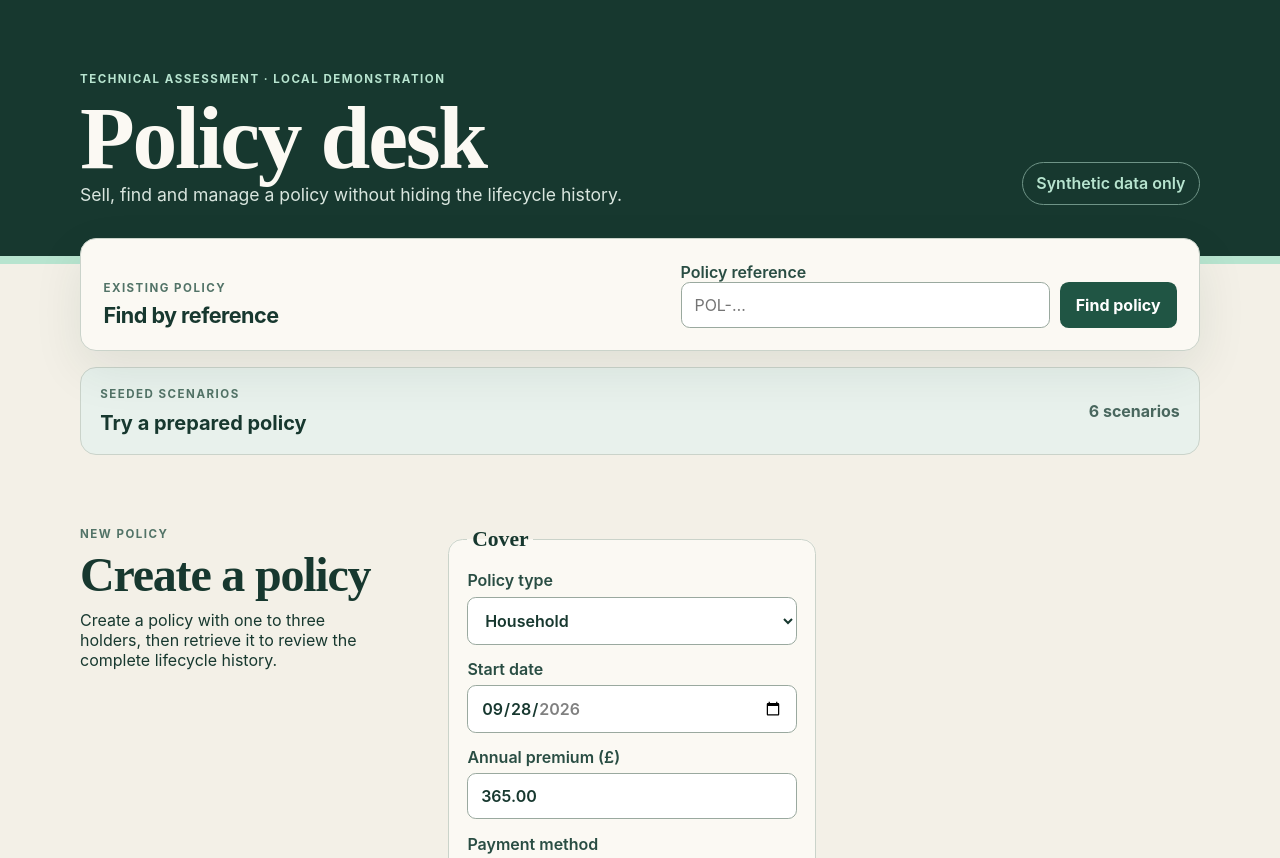
policy desk › requires GET recovery after renewal returns HTTP 500
Type "POL-DEMO123" into the field labelled "Policy reference" at x=865, y=305, box 681,282 -> 1050,328
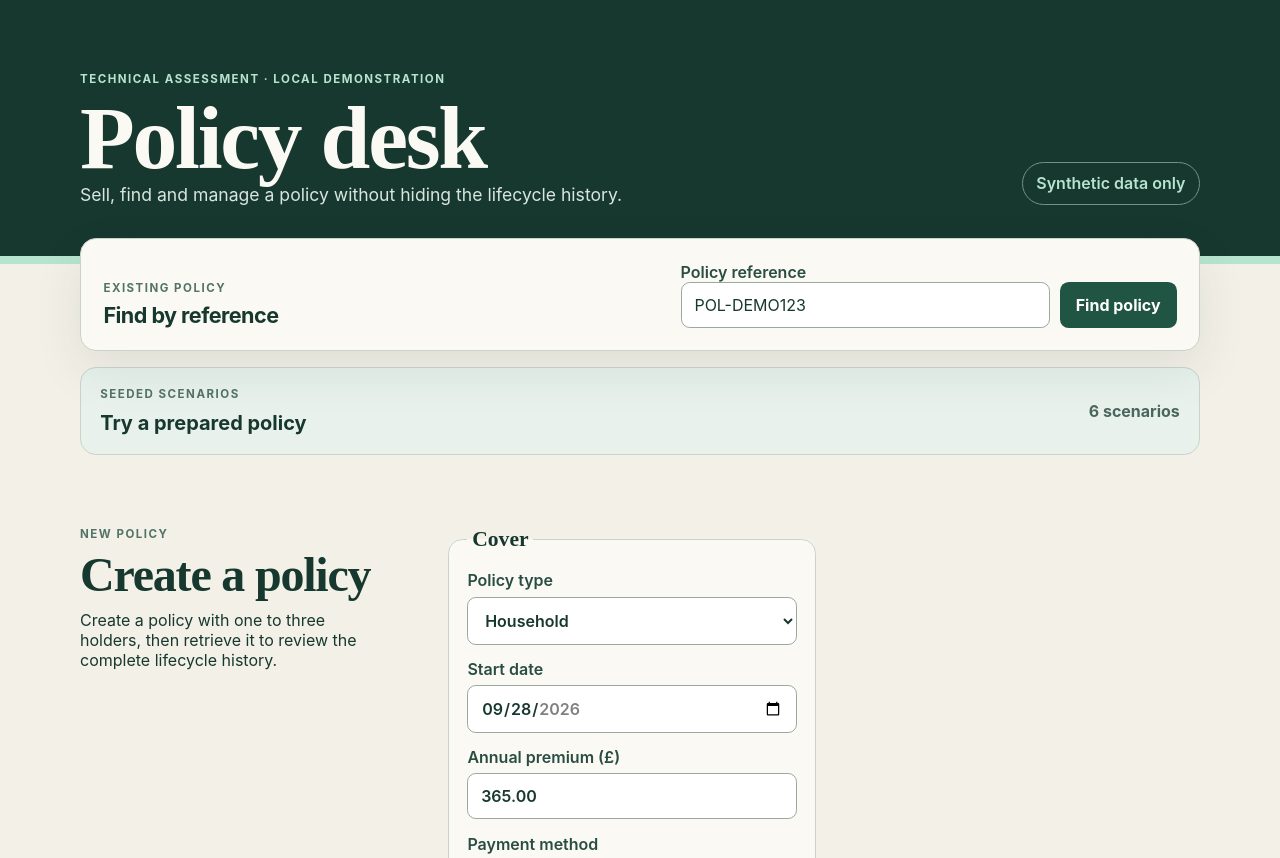
Submit the form labelled "Policy reference", box 681,262 -> 1177,328
(page scrolled)
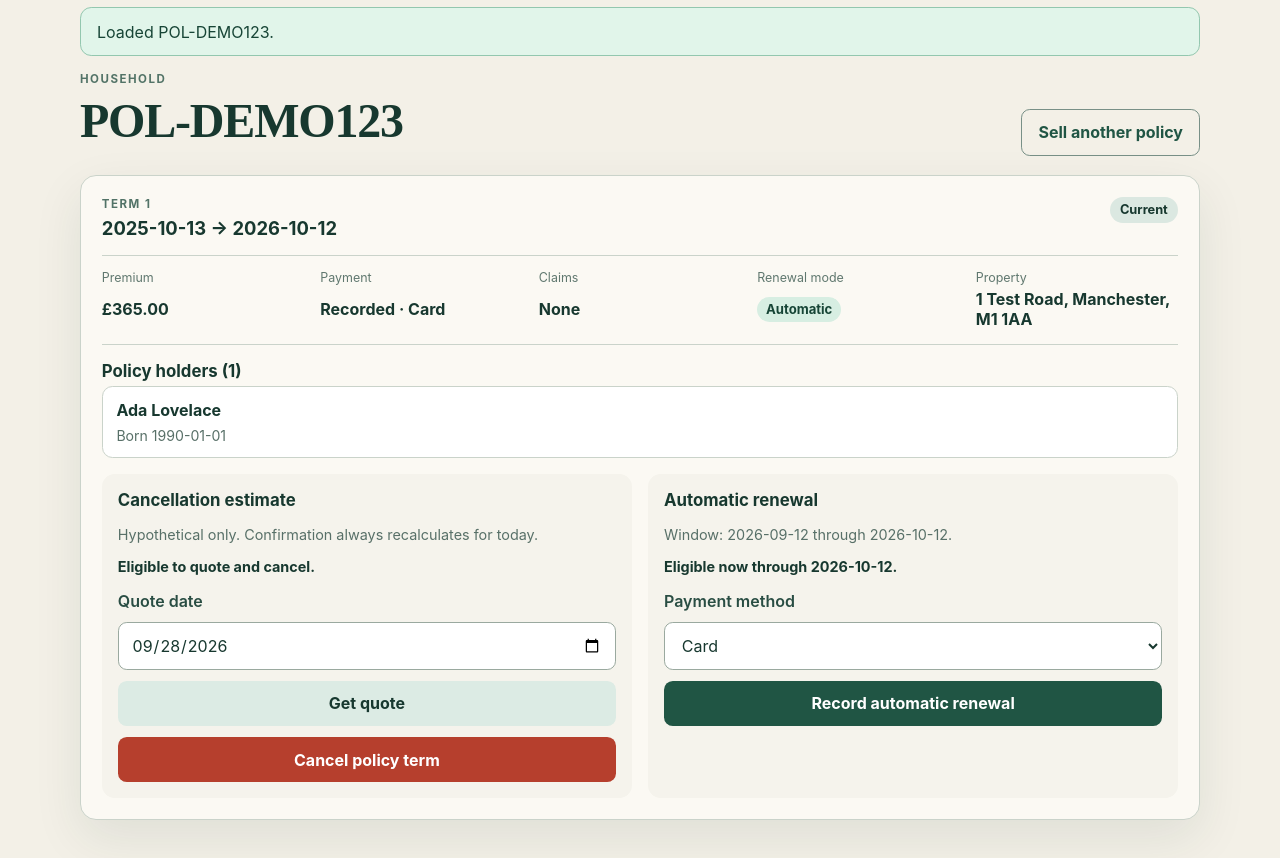
Expected: the heading "POL-DEMO123" is shown, 80,93 -> 403,148
Submit the form "Cancellation estimate", box 102,474 -> 632,798
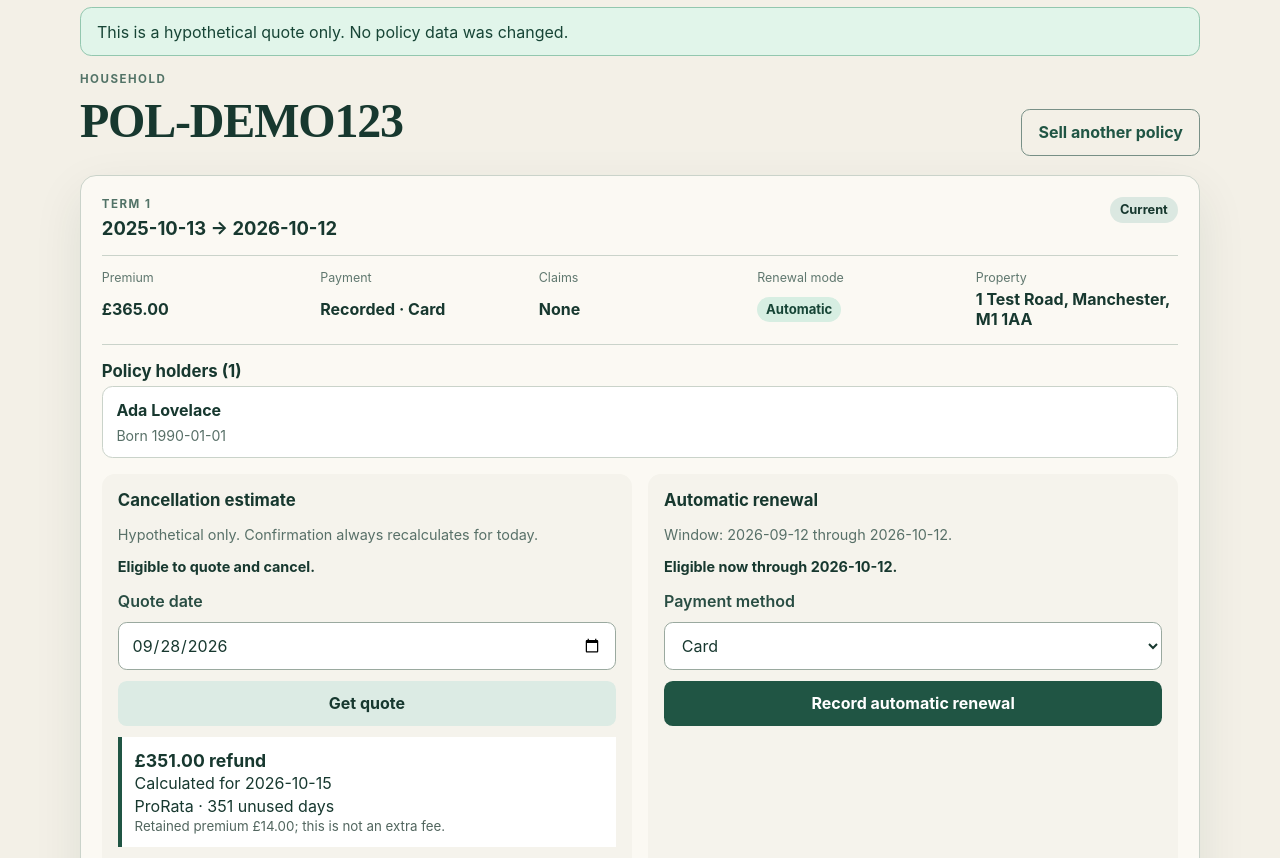
Click the button "Record automatic renewal" at x=913, y=703, box 664,681 -> 1162,726
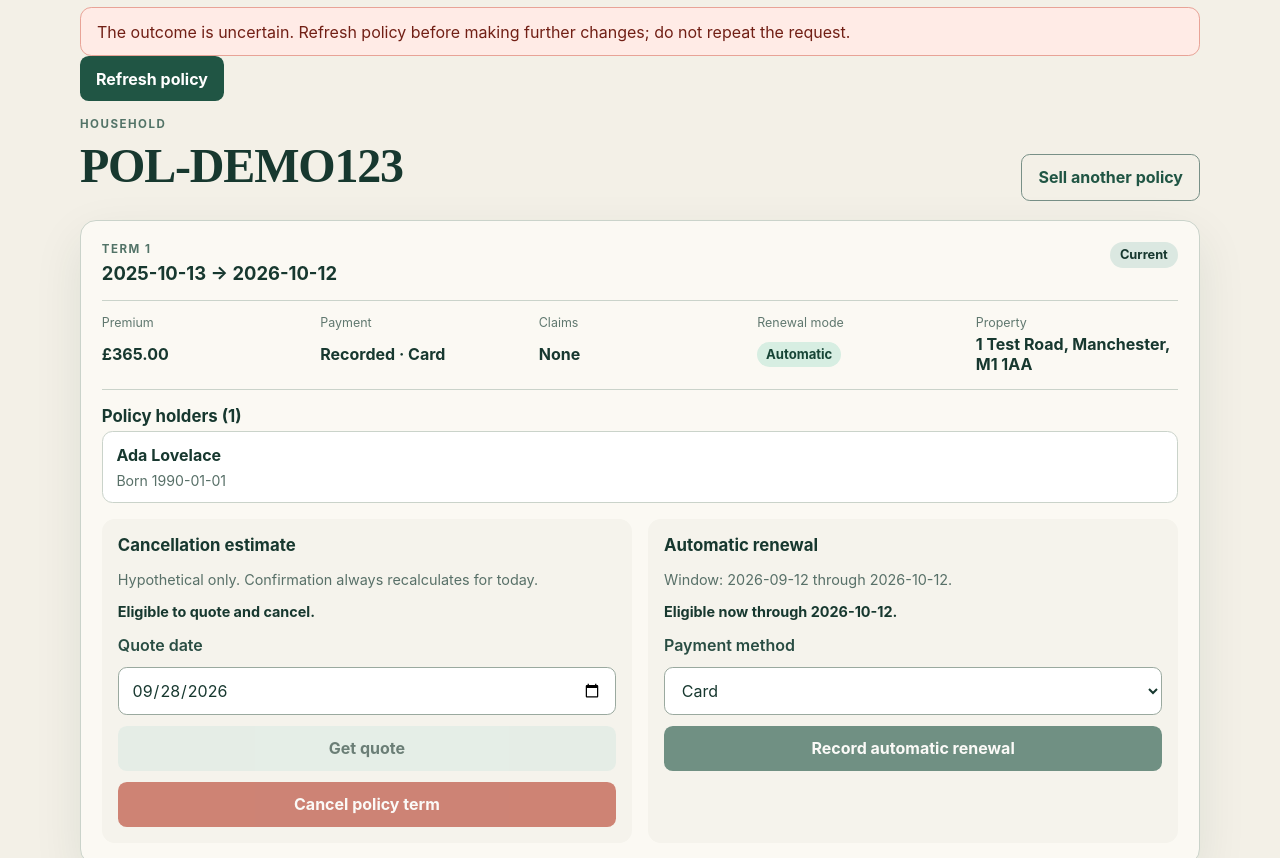
Expected: the message shows "outcome is uncertain", 97,22 -> 850,42
Expected: the button "Record automatic renewal" is disabled, 664,726 -> 1162,771
Expected: the button "Cancel policy term" is disabled, 118,782 -> 616,827
Click the button "Refresh policy" at x=152, y=79, box 80,56 -> 224,101
(page scrolled)
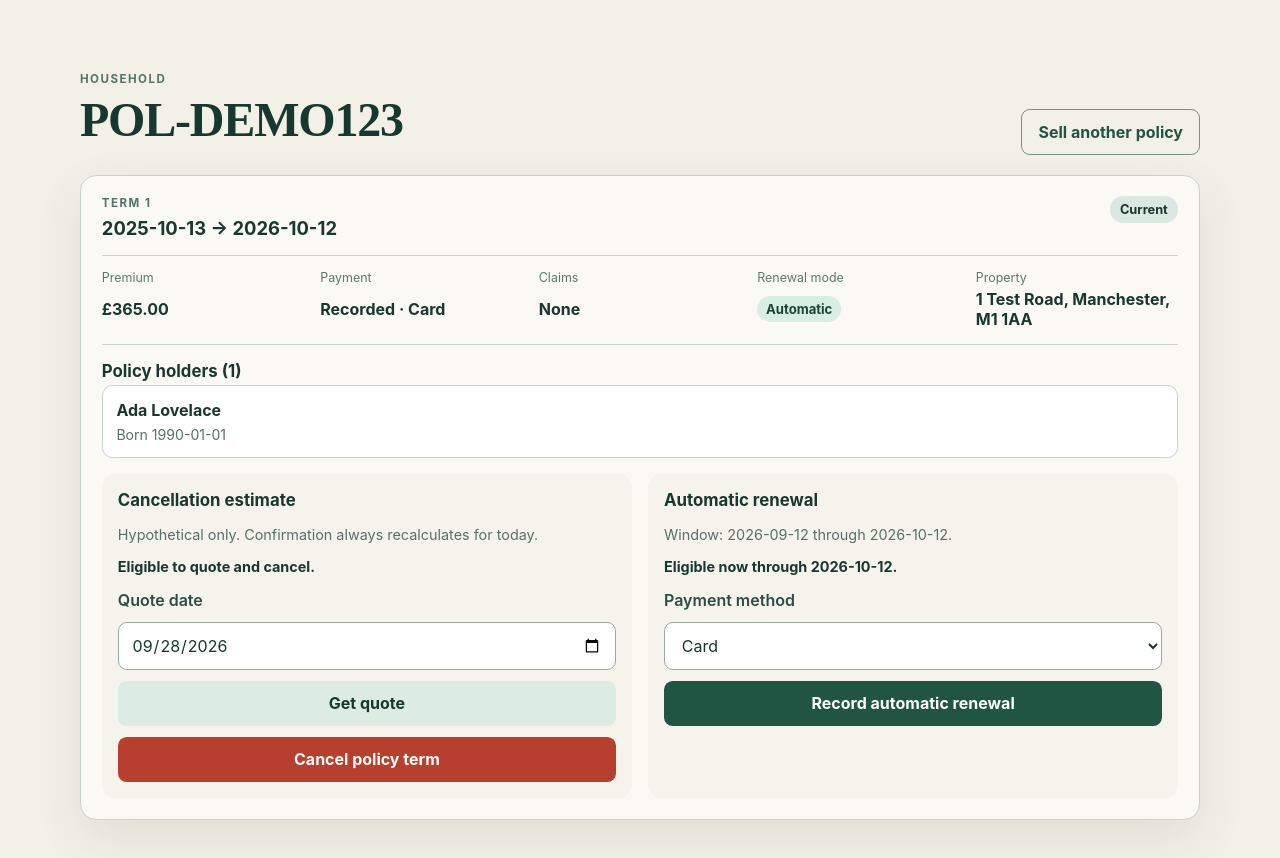
Expected: the button "Record automatic renewal" is enabled, 664,681 -> 1162,726
